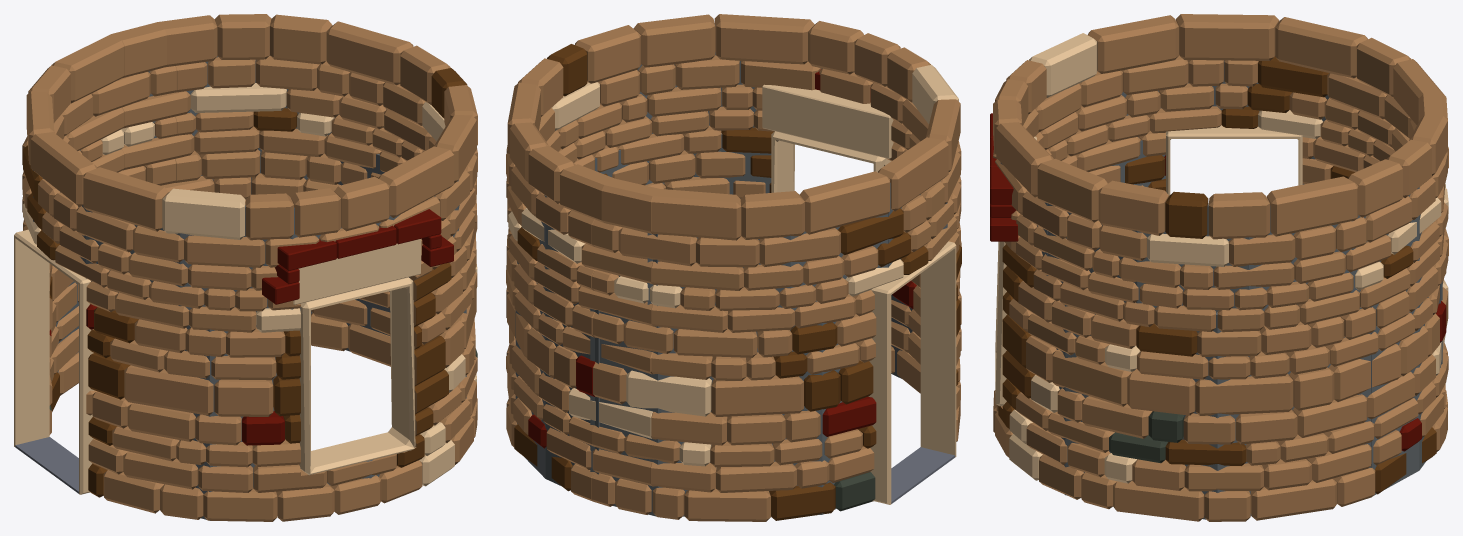
Rendered from mid-section-with-large-slit-and-doorway.glb.
The picture shows the model from 3 angles, left to right: view 1: azimuth 30°, elevation 25°; view 2: azimuth 150°, elevation 25°; view 3: azimuth 270°, elevation 25°; orthographic projection.
Parts seen in each view (by area): view 1: main-wall.057, doorway-frame, large-slit-frame, plaque-stone, grout-wall.003, doorway-step, plaque-stone.003, plaque-stone.004, plaque-stone.007, plaque-stone.001, plaque-stone.005; view 2: main-wall.057, doorway-frame, plaque-stone, grout-wall.003, large-slit-frame, doorway-step; view 3: main-wall.057, grout-wall.003, doorway-frame, large-slit-frame, plaque-stone.007, plaque-stone.005.
Boxes of the visible parts, x1=… form: main-wall.057: x1=22, y1=14, x2=477, y2=521; doorway-frame: x1=14, y1=229, x2=94, y2=494; large-slit-frame: x1=299, y1=277, x2=415, y2=475; plaque-stone: x1=293, y1=239, x2=421, y2=304; grout-wall.003: x1=33, y1=55, x2=466, y2=520; doorway-step: x1=15, y1=437, x2=78, y2=493; plaque-stone.003: x1=277, y1=239, x2=336, y2=270; plaque-stone.004: x1=335, y1=225, x2=396, y2=258; plaque-stone.007: x1=394, y1=209, x2=441, y2=244; plaque-stone.001: x1=262, y1=277, x2=299, y2=304; plaque-stone.005: x1=421, y1=236, x2=453, y2=266; main-wall.057: x1=506, y1=14, x2=961, y2=521; doorway-frame: x1=868, y1=241, x2=956, y2=504; plaque-stone: x1=762, y1=84, x2=893, y2=158; grout-wall.003: x1=515, y1=25, x2=947, y2=516; large-slit-frame: x1=771, y1=131, x2=886, y2=192; doorway-step: x1=891, y1=447, x2=955, y2=503; main-wall.057: x1=993, y1=14, x2=1448, y2=521; grout-wall.003: x1=1000, y1=60, x2=1442, y2=521; doorway-frame: x1=1166, y1=125, x2=1302, y2=195; large-slit-frame: x1=995, y1=241, x2=1006, y2=406; plaque-stone.007: x1=990, y1=167, x2=1013, y2=204; plaque-stone.005: x1=990, y1=217, x2=1018, y2=241.
Size of the model in its own units: 2.9 by 2.25 by 2.92.
